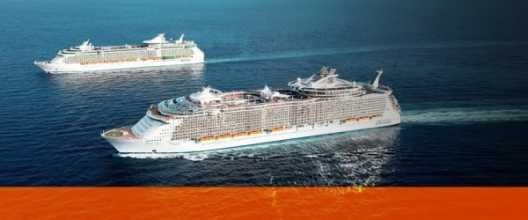youlun: (100, 67, 401, 159), (29, 27, 220, 78)
